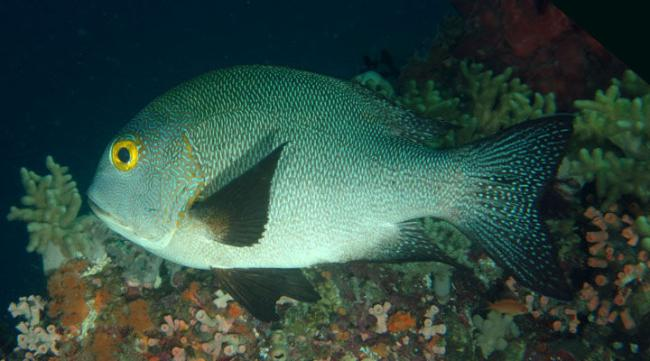fish: (86, 63, 578, 301)
